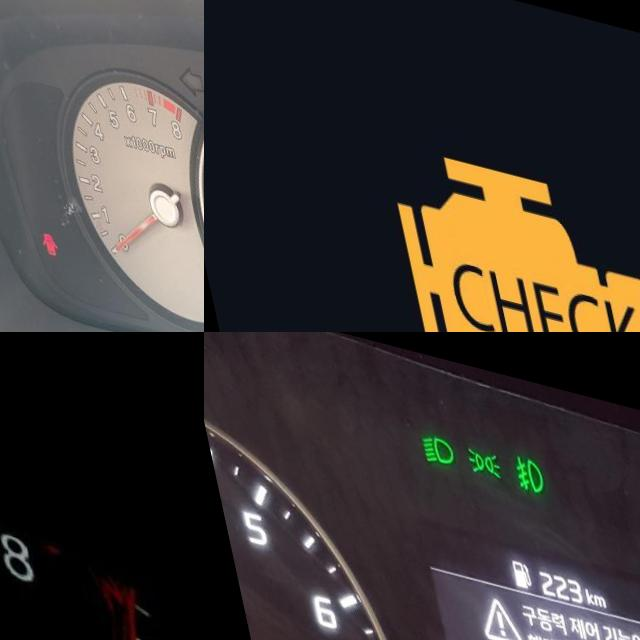Doors: (21, 224, 41, 250)
FrontFogLight: (507, 435, 542, 478)
Low beam: (416, 420, 452, 457)
SideLamp: (461, 430, 498, 465)
